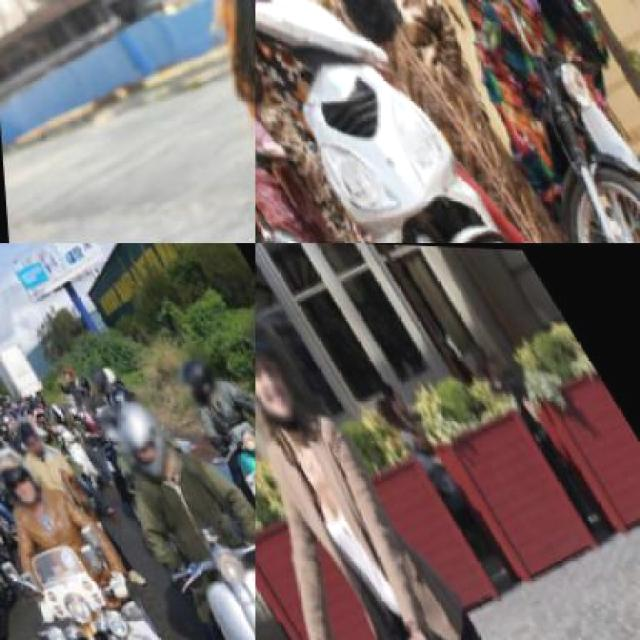With Helmet: (90, 384, 185, 488), (255, 286, 314, 437), (0, 429, 60, 526), (158, 333, 232, 410), (234, 297, 254, 408), (81, 356, 114, 395)
Without Helmet: (163, 0, 254, 146), (7, 410, 51, 462)
